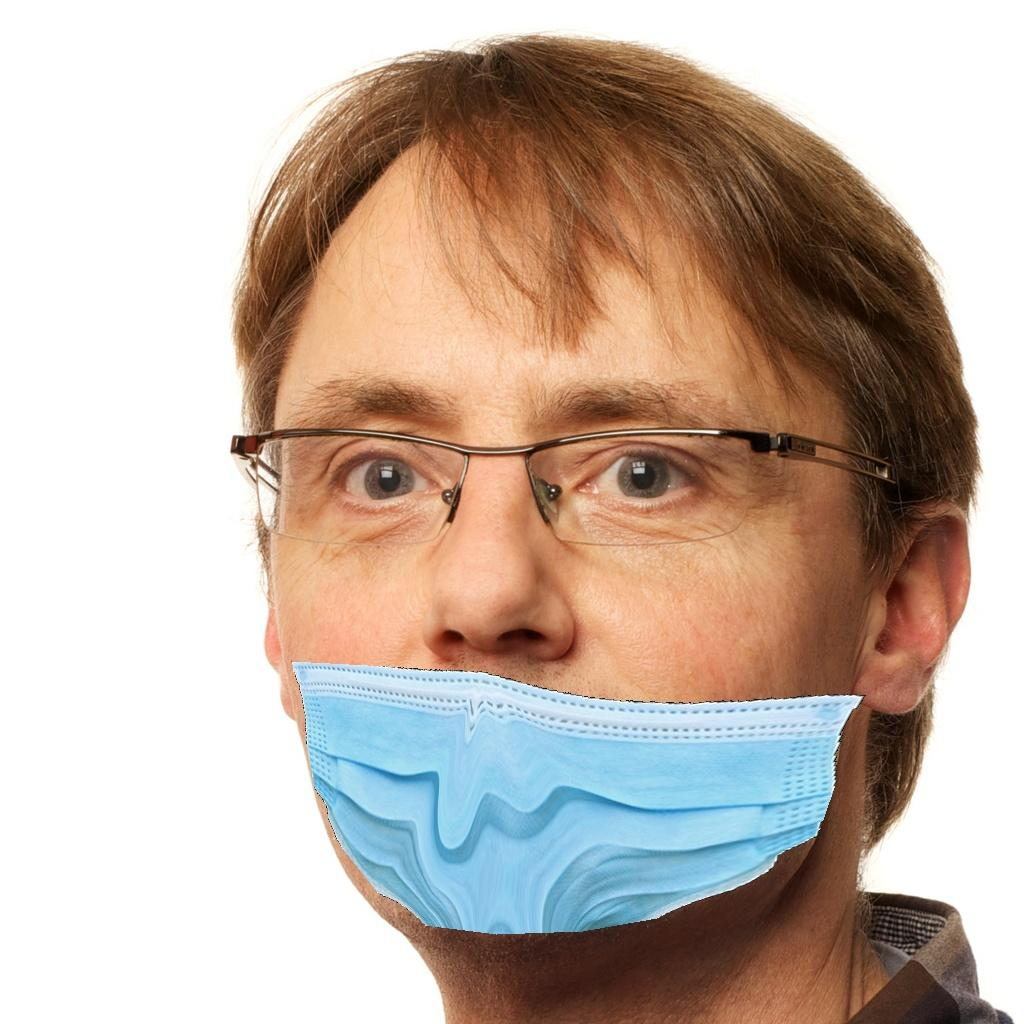Máscara Incorreta: (253, 261, 849, 925)
